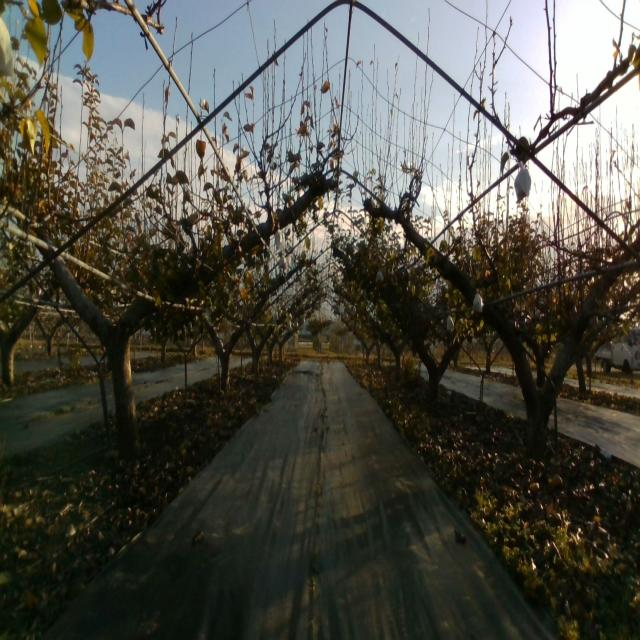pearbags: (514, 161, 531, 201), (473, 288, 483, 314)
